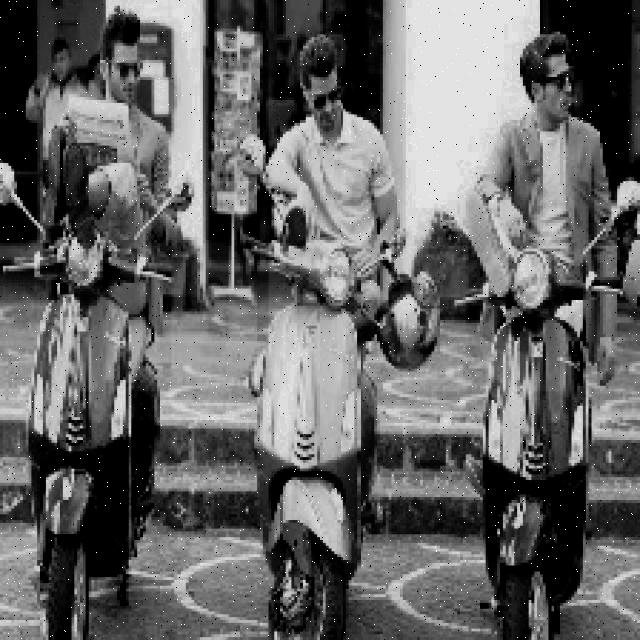Bike: (240, 212, 392, 638), (476, 251, 616, 639), (34, 220, 158, 639)
